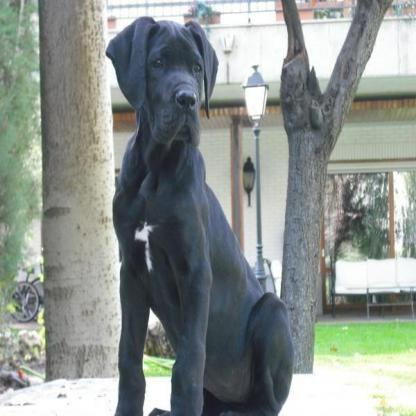Great_Dane: (104, 16, 294, 413)
